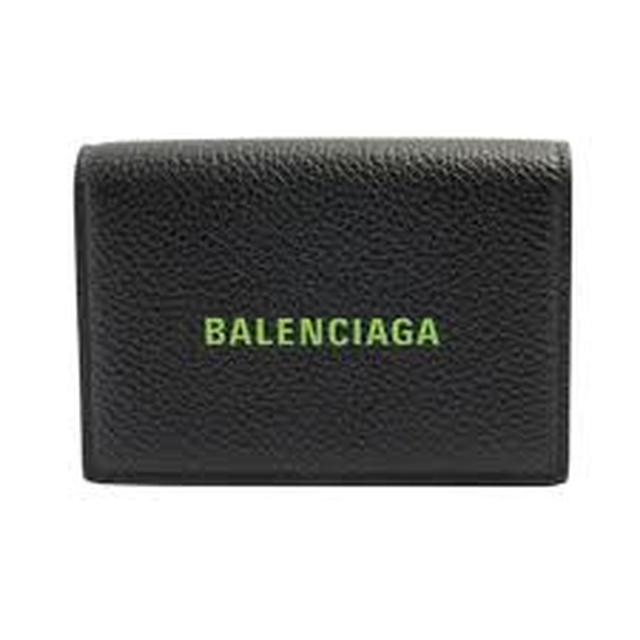wallet: (49, 106, 585, 496)
